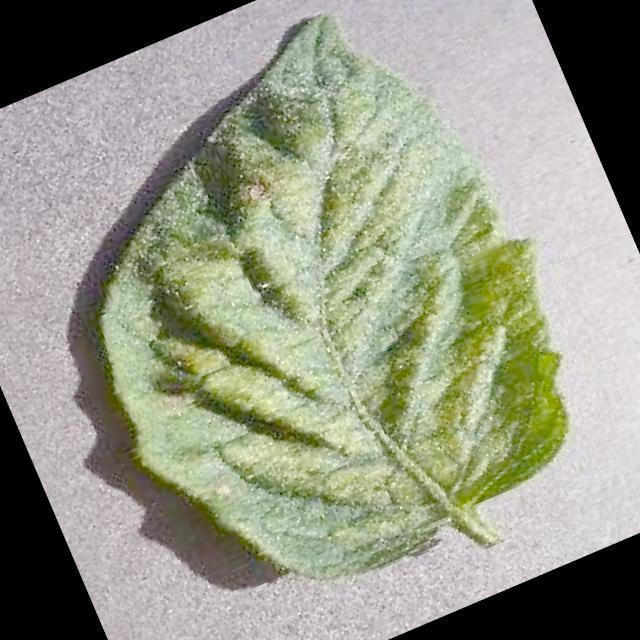Tomato spider mites leaf: (5, 0, 621, 640)
